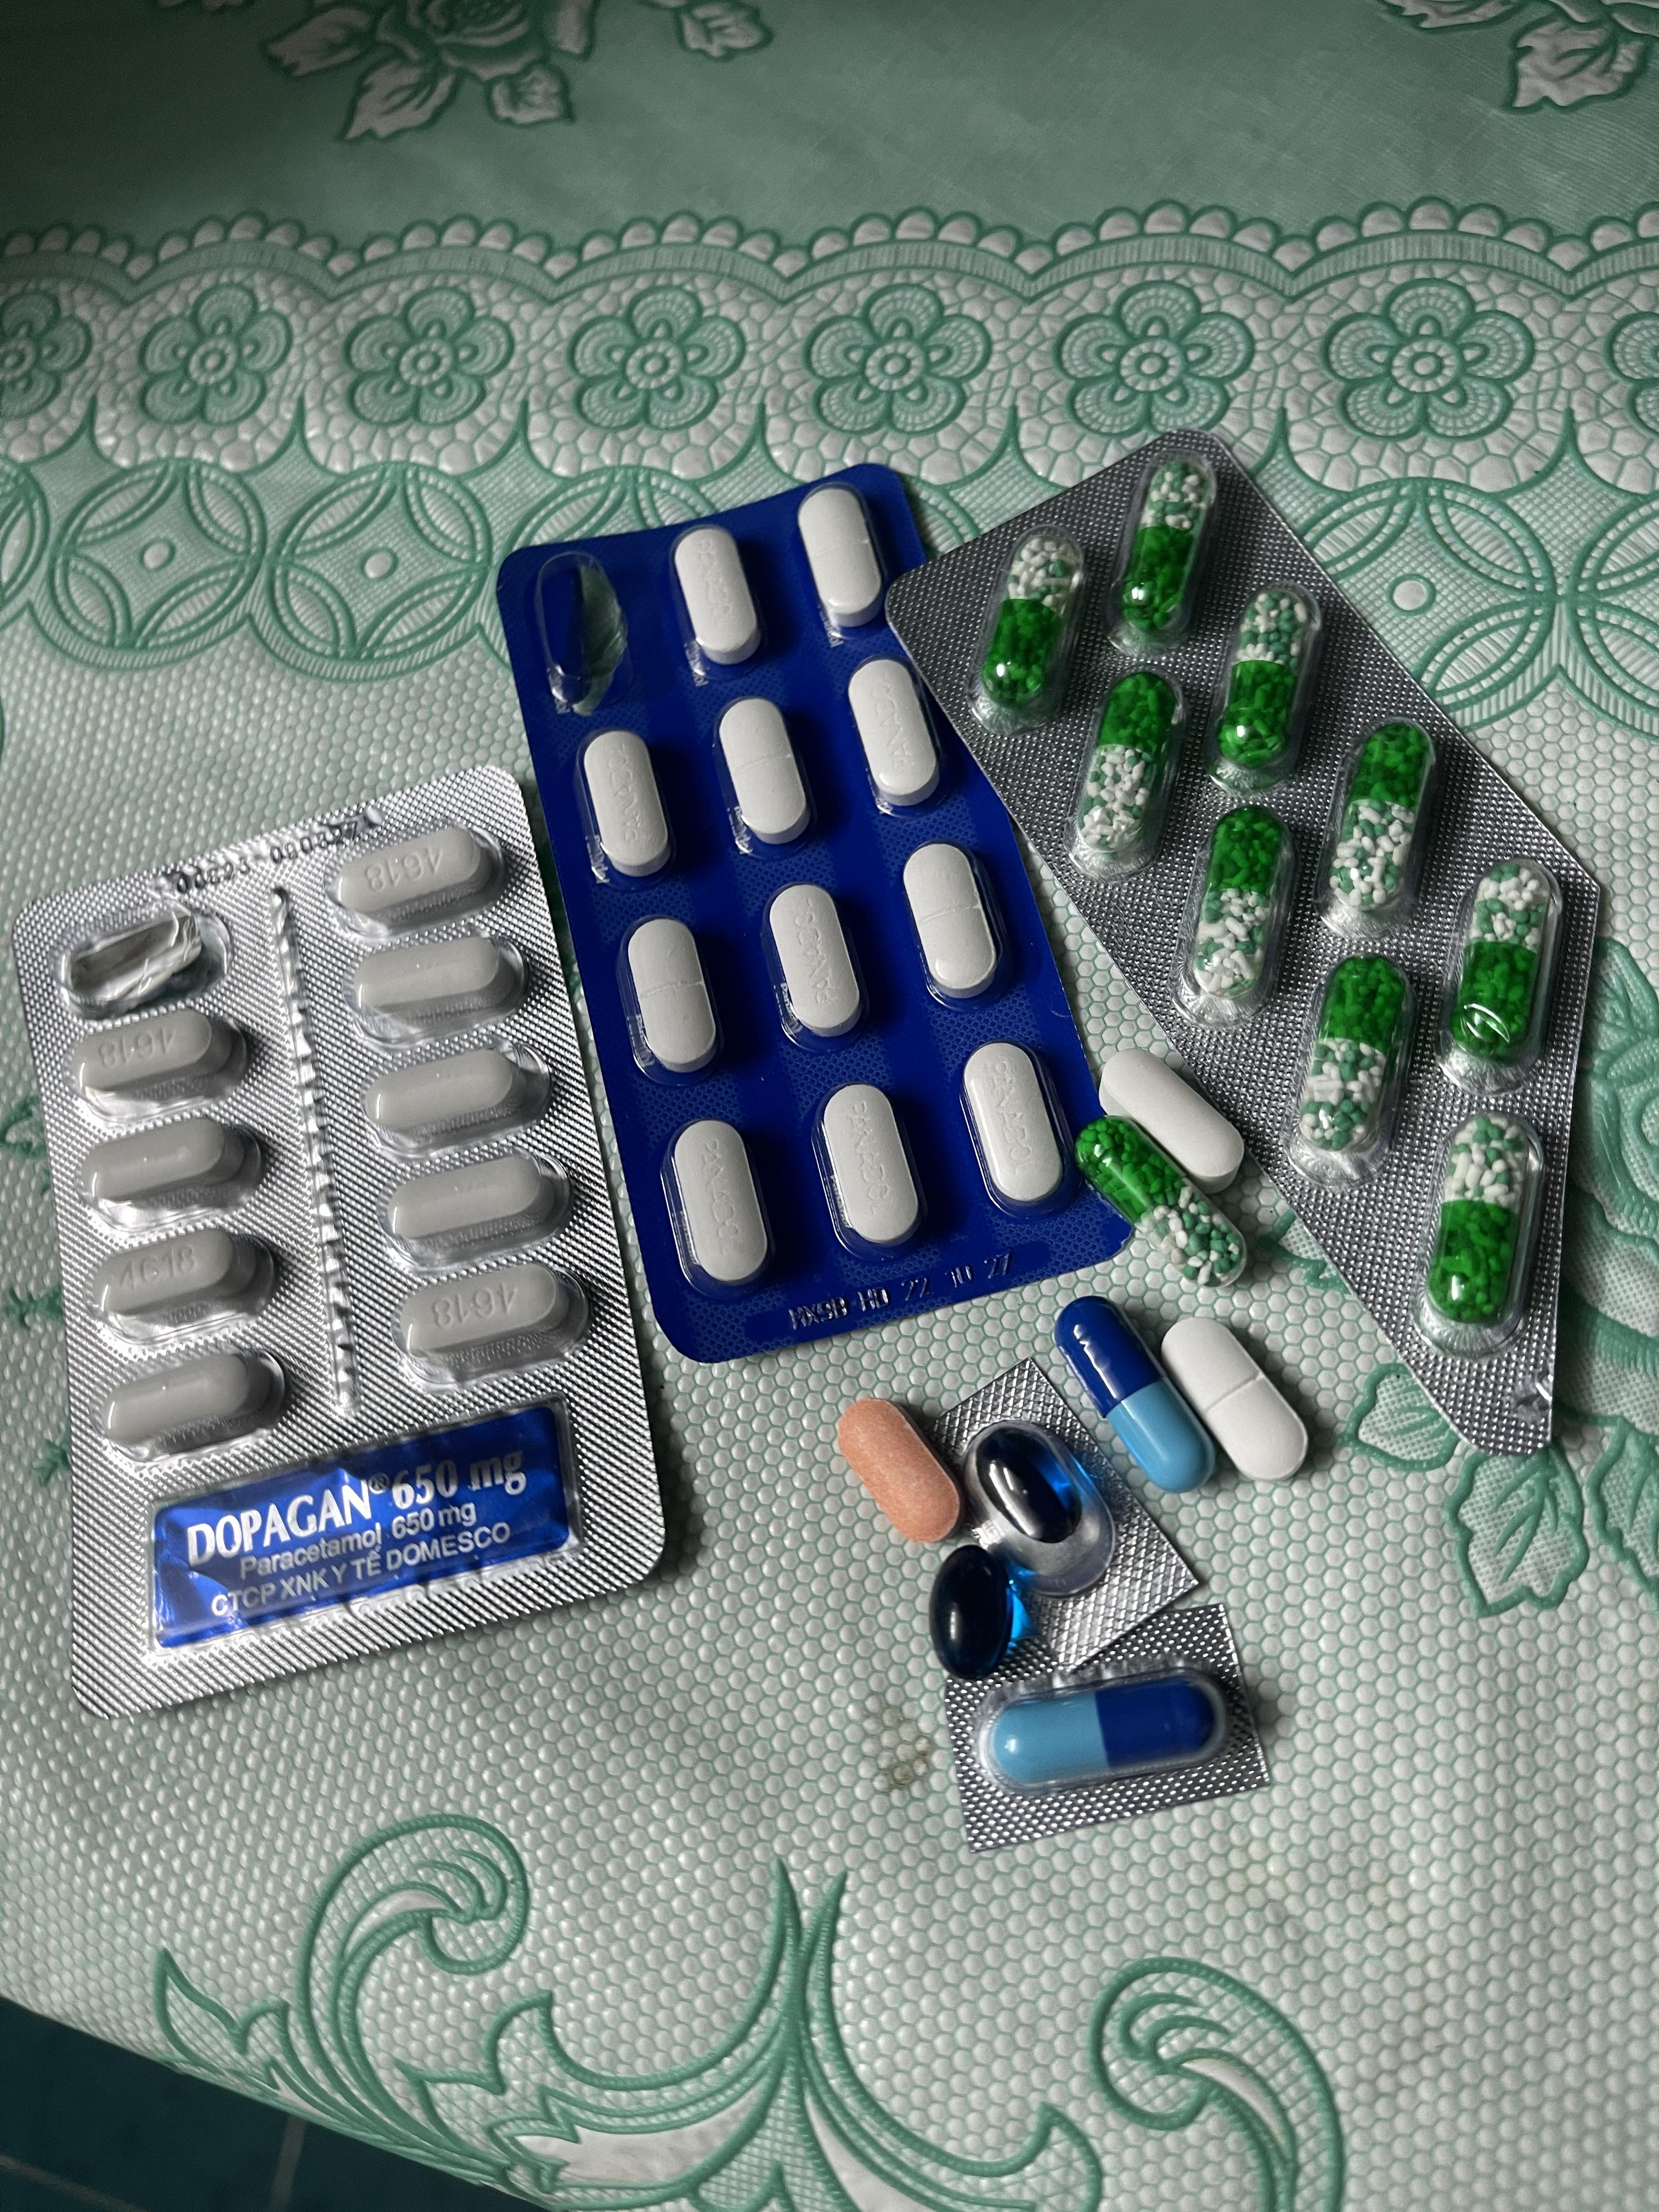Lincomyxin_500mg: (929, 1545, 1026, 1681), (981, 1437, 1075, 1540)
Loratadine_10mg: (835, 1397, 958, 1541)
Paracetamol_350mg: (1169, 1320, 1309, 1477), (814, 1082, 925, 1258), (962, 1042, 1073, 1216), (667, 1122, 772, 1289), (624, 916, 723, 1076), (767, 883, 866, 1040), (903, 843, 1002, 1000), (845, 658, 938, 813), (716, 697, 810, 848), (580, 730, 671, 876), (796, 484, 887, 629), (671, 526, 760, 667)
Paracetamol_500mg: (390, 1261, 584, 1388), (378, 1144, 568, 1266), (1100, 1043, 1243, 1195), (89, 1230, 277, 1345), (78, 1115, 265, 1230), (101, 1348, 286, 1461), (345, 930, 526, 1043), (71, 1005, 247, 1116), (361, 1043, 542, 1150), (329, 822, 483, 916)
Paracetamol_650mg: (1072, 1118, 1236, 1287), (1202, 582, 1321, 792), (1297, 958, 1408, 1158), (1427, 1118, 1530, 1320), (1328, 728, 1434, 921), (978, 526, 1084, 716), (1079, 674, 1183, 864), (1450, 867, 1551, 1062), (1188, 813, 1286, 1005), (1119, 455, 1215, 631)
pill: (976, 1665, 1227, 1794), (1068, 1303, 1220, 1484)
